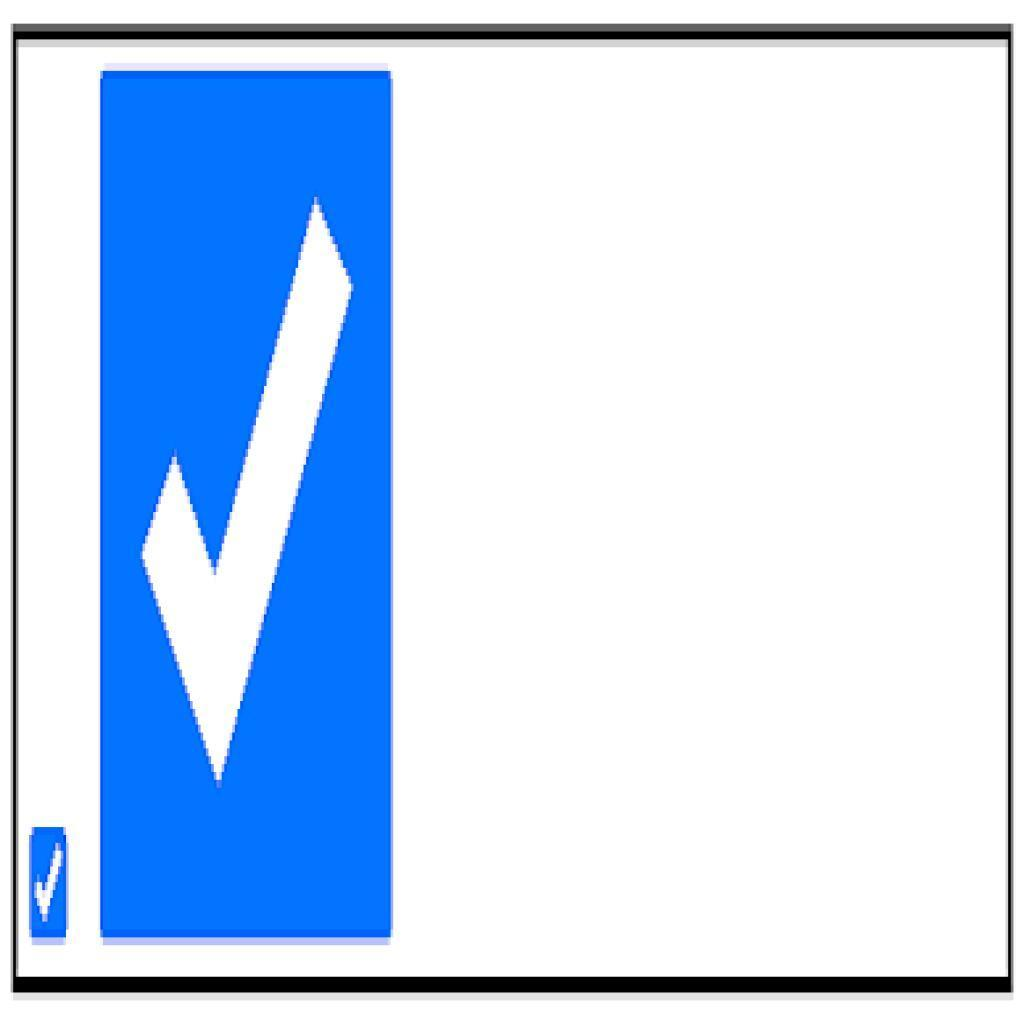checkbox: (97, 63, 397, 951), (29, 828, 72, 945)
